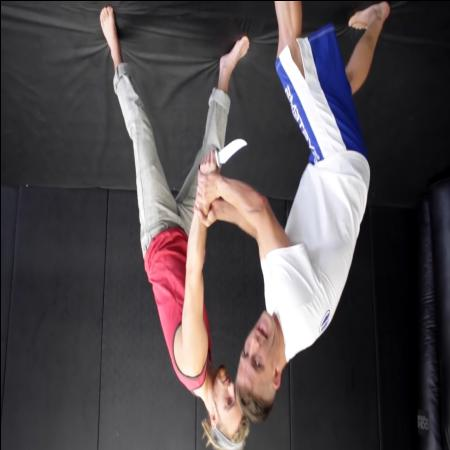long weapon: (196, 132, 249, 172)
